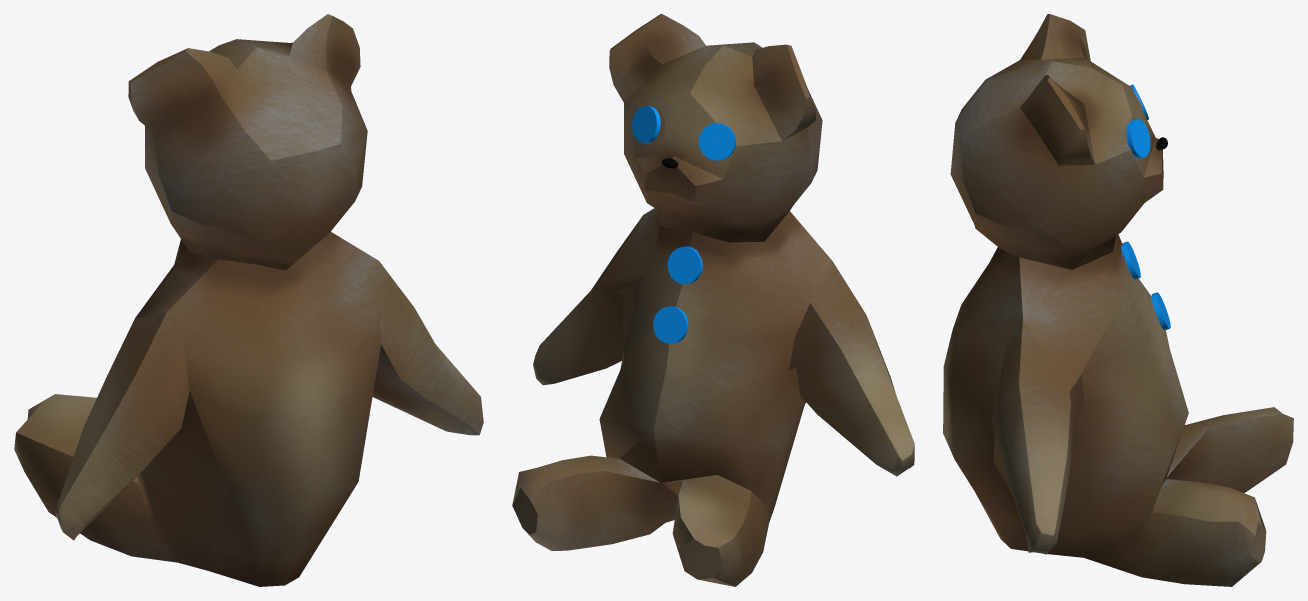
File: TeddyBear.fbx
3 views of the same model, side by side, from view 1: azimuth 30°, elevation 25°; view 2: azimuth 150°, elevation 25°; view 3: azimuth 270°, elevation 25° (orthographic). The views are drawn at different scales.
Visible parts, largest first — view 1: pSphere2; view 2: pSphere2; view 3: pSphere2.
Part boxes in pixels (<box>): pSphere2: <box>14,14,483,586</box>; pSphere2: <box>512,14,914,586</box>; pSphere2: <box>943,14,1293,586</box>.
Size of the model in its own units: 4.31 by 5.26 by 3.36.
1 material, 1 textured.
